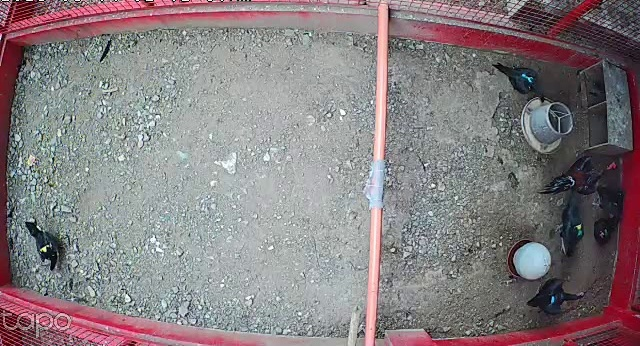Chicken: (525, 273, 586, 317), (554, 185, 589, 259), (491, 58, 547, 104), (24, 218, 65, 272), (591, 184, 627, 218), (589, 213, 621, 247)
Rooster: (537, 150, 620, 205)
Saddle_Color_Blue: (550, 293, 557, 306)
Saddle_Color_Yellow: (40, 242, 53, 254)
Saddle_Color_YellowGreen: (574, 223, 583, 236)
